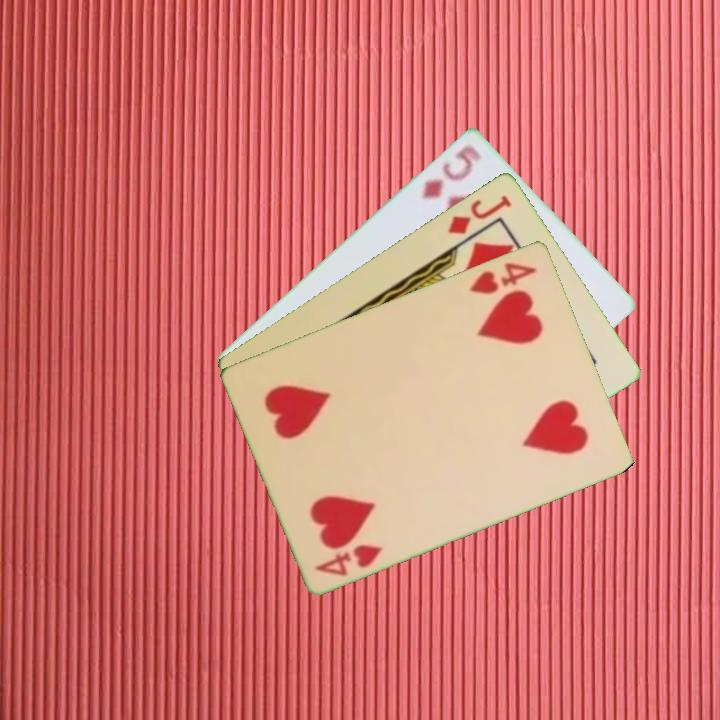4h: (311, 540, 386, 579), (466, 258, 540, 297)
5d: (417, 141, 485, 201)
Jd: (443, 191, 515, 237)
